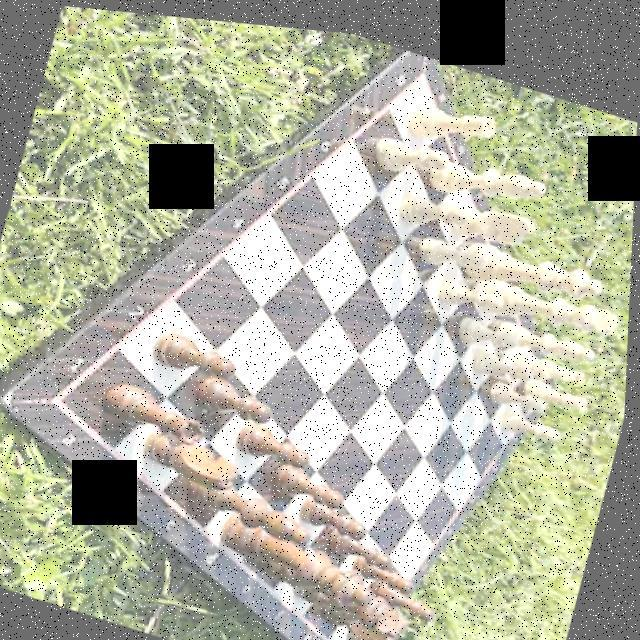chess-table-corners: (36, 368, 90, 434), (390, 52, 446, 104), (516, 362, 556, 417), (326, 626, 373, 640)
